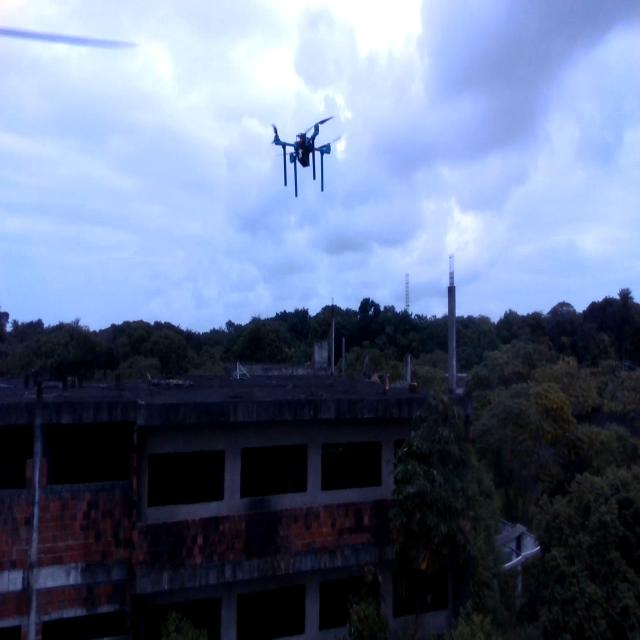-uav-: (266, 107, 345, 200)
